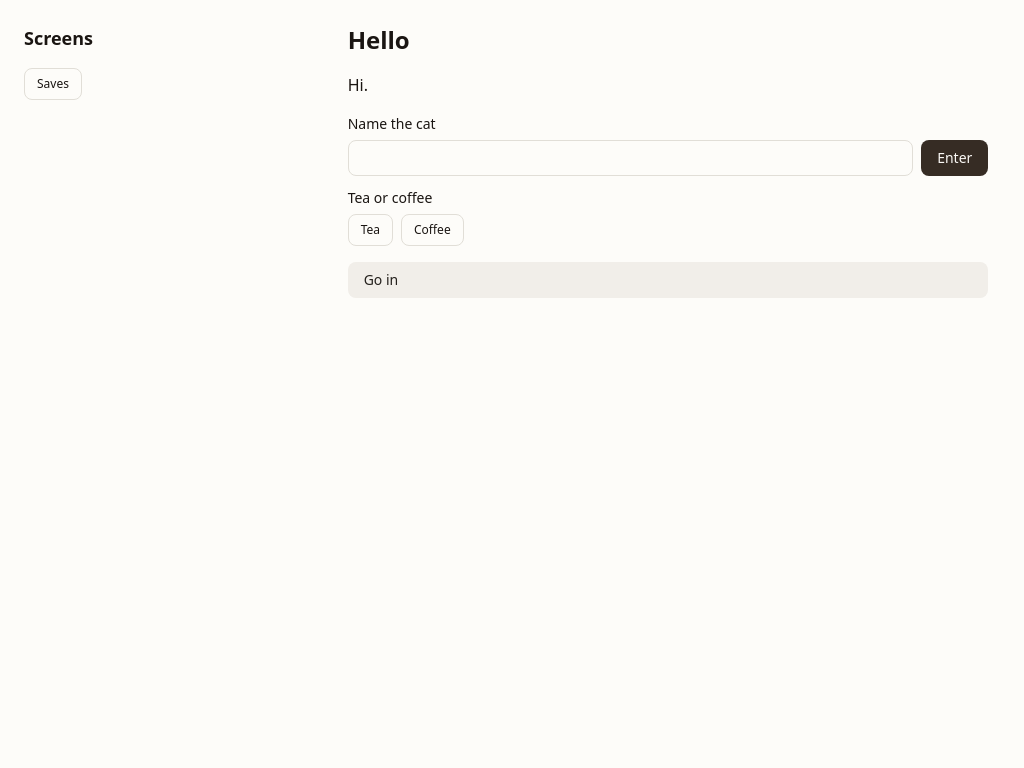
Test case: the React UI’s screens › says why an export or a delete failed when the storage goes away, rather than rejecting
Click the button "Saves".
click(53, 84)  # box [24,68,82,100]
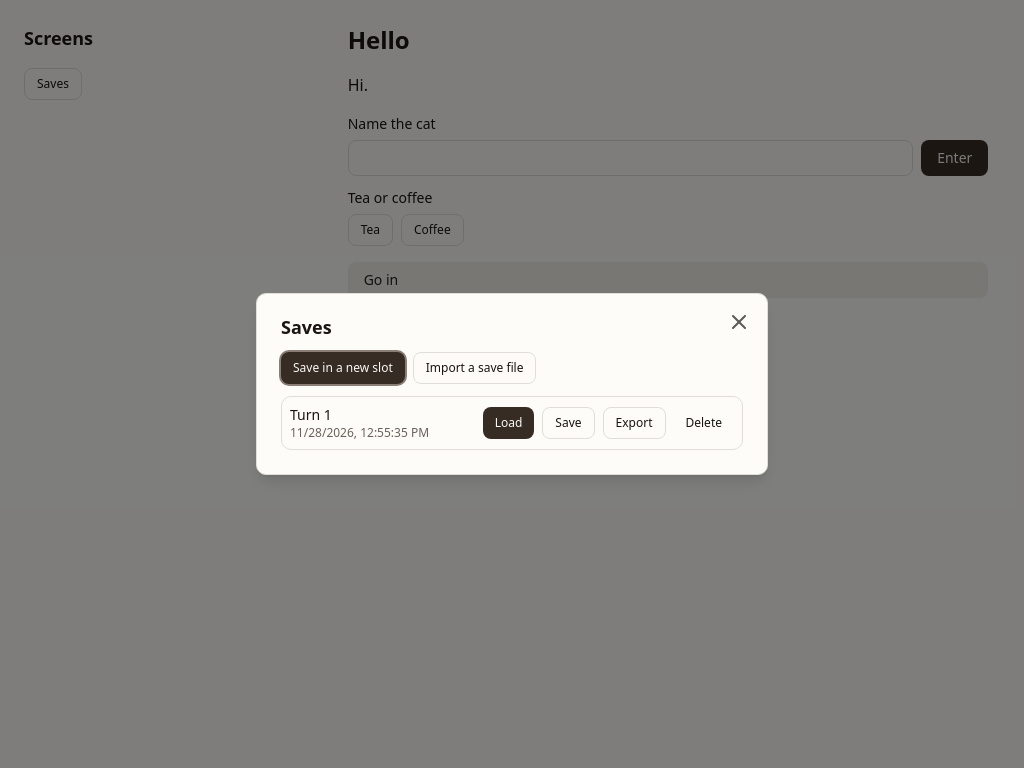
Now the list item "Turn 1 11/28/2026, 12:55:35 PM Load Save Export Delete" is shown, box [281,396,743,450]
Click the button "Export".
click(634, 423)  # box [602,407,666,439]
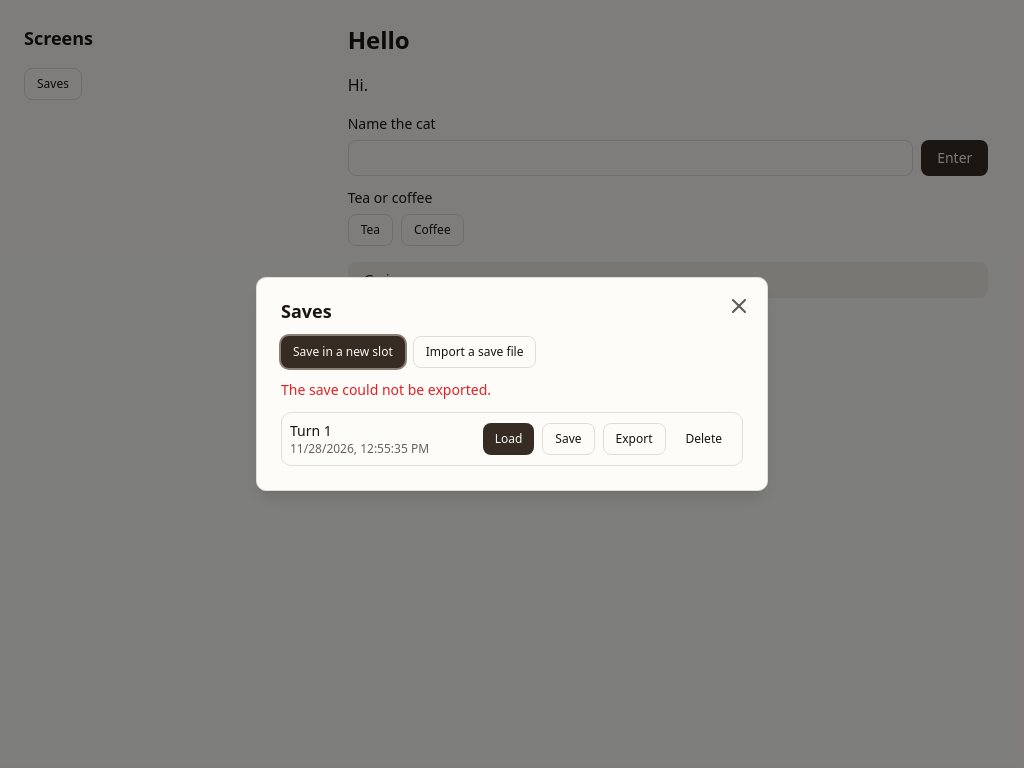
Now the element that starts with "Save in a new slot" shows "The save could not be exported.", box [281,380,491,399]
Click the button "Delete".
click(704, 439)  # box [674,423,734,455]
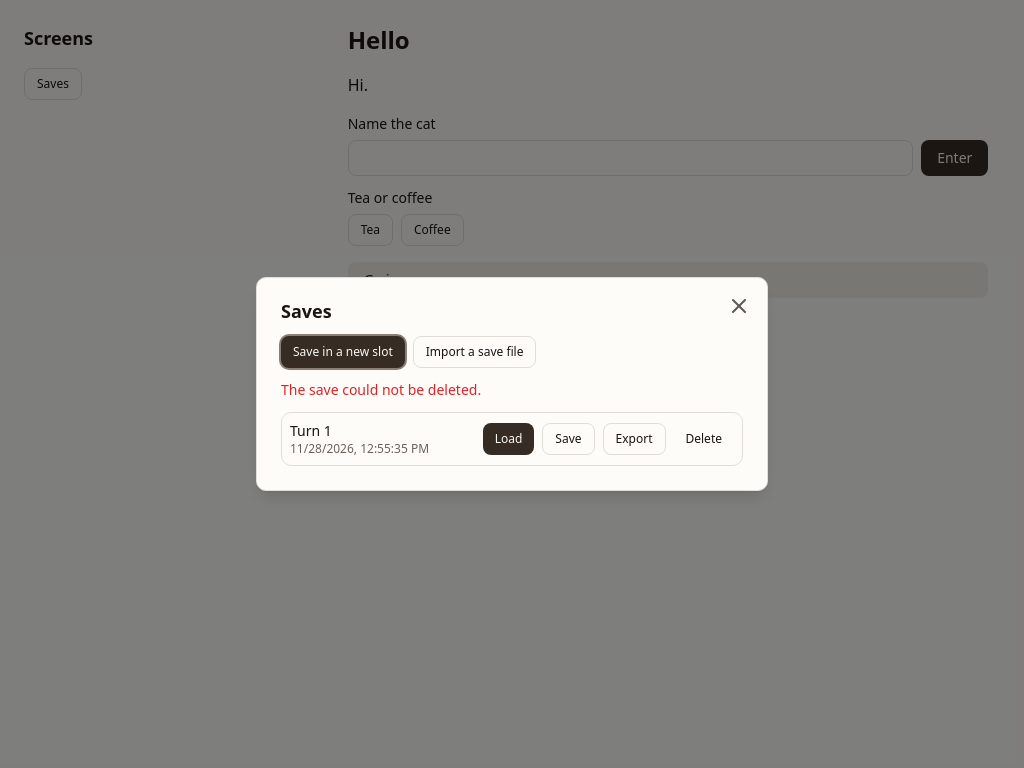
Now the list item "Turn 1 11/28/2026, 12:55:35 PM Load Save Export Delete" is shown, box [281,412,743,466]
Now the element that starts with "Save in a new slot" shows "The save could not be deleted.", box [281,380,481,399]
